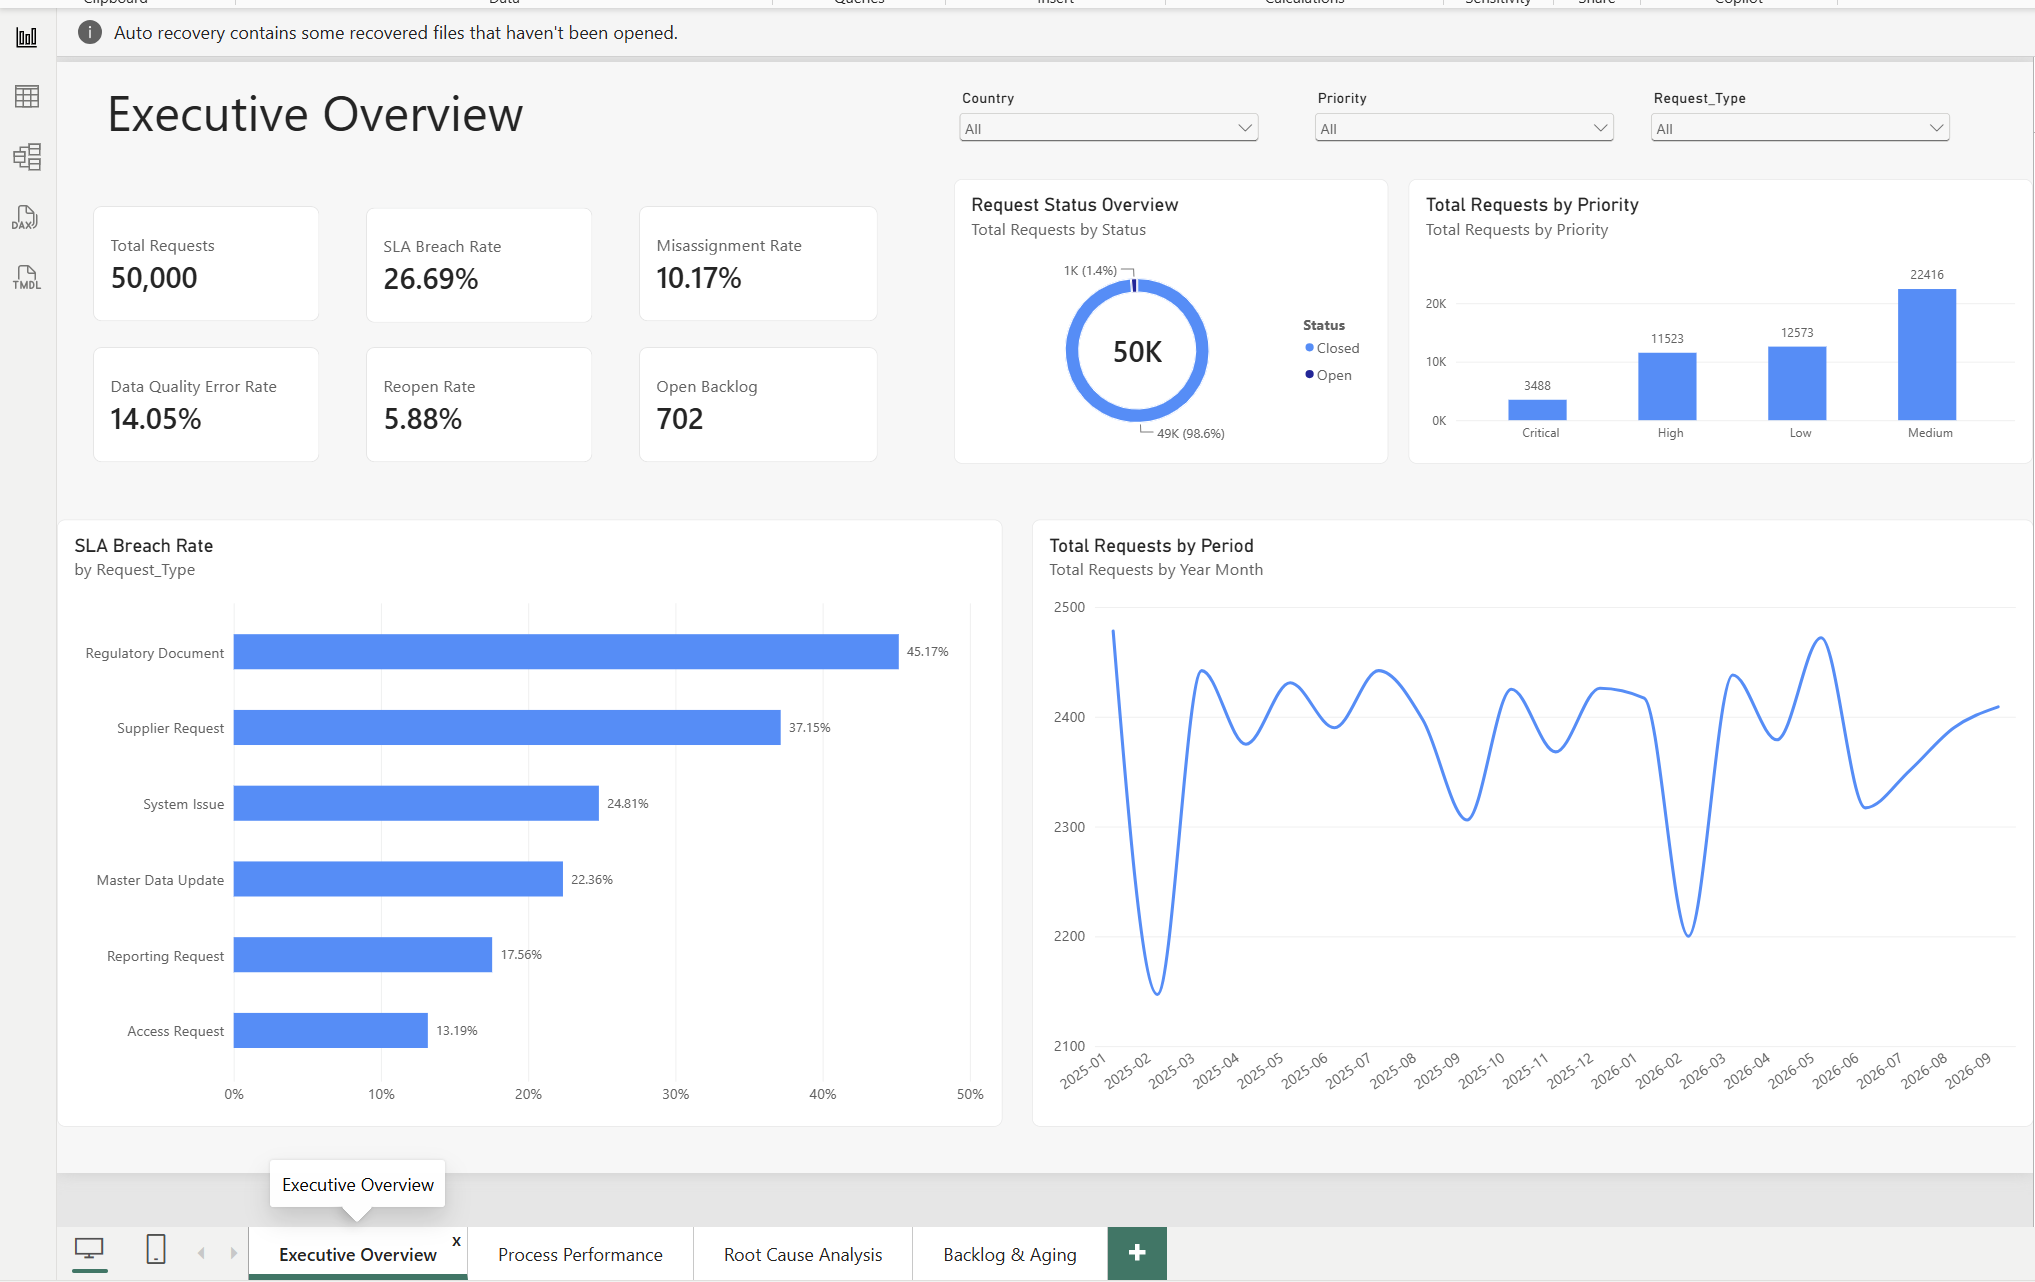

This screenshot's page, from the dashboard's own definition file:
{"tool":"powerbi","page":{"name":"Executive Overview","canvas":[1920,1080],"ordinal":0},"visuals":[{"type":"cardVisual","fields":{"Data":["BusinessRequests.Data Quality Error Rate"]},"box":[35,276.7,221,112.1],"z":0},{"type":"cardVisual","fields":{"Data":["BusinessRequests.Misassignment Rate"]},"box":[565,140,232,112.1],"z":1000},{"type":"cardVisual","fields":{"Data":["BusinessRequests.Reopen Rate"]},"box":[300,276.7,221,112.1],"z":2000},{"type":"cardVisual","fields":{"Data":["BusinessRequests.SLA Breach Rate"]},"box":[300,141.7,221,112.1],"z":3000},{"type":"cardVisual","fields":{"Data":["BusinessRequests.Total Requests"]},"box":[35,140,221,112.1],"z":4000},{"type":"cardVisual","fields":{"Data":["BusinessRequests.Open Backlog"]},"box":[565,276.7,232,112.1],"z":5000},{"type":"clusteredBarChart","fields":{"Category":["BusinessRequests.Request_Type"],"Y":["BusinessRequests.SLA Breach Rate"]},"box":[0,445,918.3,590],"z":5001},{"type":"clusteredColumnChart","title":"Total Requests by Priority","fields":{"Category":["BusinessRequests.Priority"],"Y":["BusinessRequests.Total Requests"]},"box":[1313.3,113.3,606.7,276.7],"z":5002},{"type":"donutChart","title":"Request Status Overview","fields":{"Category":["BusinessRequests.Status"],"Y":["BusinessRequests.Total Requests"]},"box":[871.7,113.3,421.7,276.7],"z":5003},{"type":"lineChart","title":"Total Requests by Period","fields":{"Category":["BusinessRequests.Year Month"],"Y":["BusinessRequests.Total Requests"]},"box":[946.7,445,973.3,590],"z":5004},{"type":"textbox","box":[48.3,14.3,750.2,82.4],"z":5005},{"type":"slicer","fields":{"Values":["BusinessRequests.Country"]},"box":[872,26.9,300.8,69.8],"z":5006},{"type":"slicer","fields":{"Values":["BusinessRequests.Priority"]},"box":[1217.5,26.9,300.8,69.8],"z":5007},{"type":"slicer","fields":{"Values":["BusinessRequests.Request_Type"]},"box":[1543.4,26.9,300.8,69.8],"z":5008}]}

Visuals, with their boxes on the page's 1920x1080 design canvas (x1, y1, x2, y2). These are canvas units, not pixel positions in the 2035x1282 screenshot, which may show the page scaled, cropped or inside an application window:
cardVisual - BusinessRequests.Data Quality Error Rate: 35,277,256,389
cardVisual - BusinessRequests.Misassignment Rate: 565,140,797,252
cardVisual - BusinessRequests.Reopen Rate: 300,277,521,389
cardVisual - BusinessRequests.SLA Breach Rate: 300,142,521,254
cardVisual - BusinessRequests.Total Requests: 35,140,256,252
cardVisual - BusinessRequests.Open Backlog: 565,277,797,389
clusteredBarChart - BusinessRequests.Request_Type x BusinessRequests.SLA Breach Rate: 0,445,918,1035
"Total Requests by Priority" clusteredColumnChart: 1313,113,1920,390
"Request Status Overview" donutChart: 872,113,1293,390
"Total Requests by Period" lineChart: 947,445,1920,1035
textbox: 48,14,798,97
slicer - BusinessRequests.Country: 872,27,1173,97
slicer - BusinessRequests.Priority: 1218,27,1518,97
slicer - BusinessRequests.Request_Type: 1543,27,1844,97
